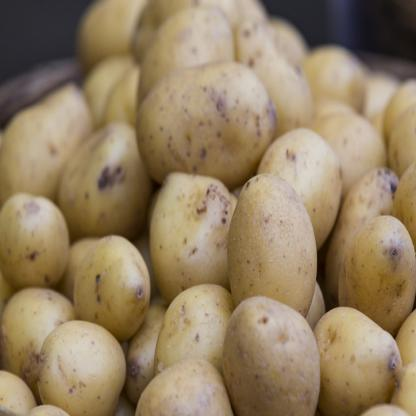potato: (136, 61, 284, 184), (231, 159, 332, 337), (133, 158, 253, 304), (60, 104, 166, 246), (0, 152, 94, 308), (138, 265, 249, 390), (308, 280, 406, 415), (338, 198, 416, 344), (62, 223, 162, 336), (222, 296, 314, 416), (41, 305, 127, 415)
